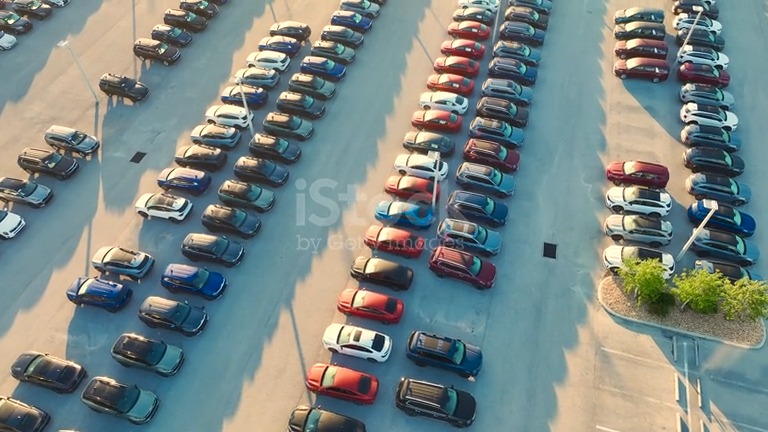car: (396, 378, 476, 427), (81, 376, 159, 424), (406, 331, 482, 377), (10, 351, 86, 392), (111, 334, 184, 376), (305, 363, 378, 404), (138, 296, 208, 336), (429, 246, 495, 288), (323, 323, 392, 362), (691, 228, 759, 265), (161, 263, 227, 299), (337, 288, 404, 323), (603, 245, 674, 278), (66, 277, 132, 311), (604, 214, 672, 247), (446, 190, 507, 226), (91, 246, 154, 280), (350, 256, 413, 290), (686, 172, 750, 205), (456, 162, 515, 197), (181, 233, 243, 266), (605, 186, 671, 217), (364, 225, 424, 257), (202, 204, 260, 237), (17, 148, 78, 179), (465, 138, 519, 172), (219, 180, 275, 212), (683, 147, 744, 176), (606, 160, 668, 188), (375, 200, 433, 229), (136, 192, 192, 222), (680, 124, 740, 152), (45, 125, 99, 156), (234, 156, 288, 186), (706, 204, 756, 236), (680, 102, 737, 130), (470, 117, 524, 146), (157, 167, 211, 195), (476, 97, 527, 126), (249, 134, 300, 163), (393, 153, 447, 180), (678, 83, 734, 109), (263, 111, 313, 140), (481, 78, 532, 106), (99, 73, 148, 102), (614, 57, 669, 82), (696, 260, 761, 281), (676, 45, 729, 70), (489, 58, 537, 85), (277, 91, 324, 118), (288, 73, 335, 100), (133, 38, 180, 65), (677, 63, 729, 87), (493, 40, 540, 66), (403, 131, 453, 155), (192, 124, 240, 149), (385, 175, 431, 201), (220, 84, 267, 109), (419, 91, 468, 114), (300, 56, 345, 81), (614, 38, 667, 59), (411, 110, 461, 132), (500, 21, 544, 46), (311, 40, 355, 65), (205, 105, 252, 128), (230, 67, 279, 89), (427, 73, 473, 95), (163, 9, 207, 32), (674, 13, 721, 34), (614, 21, 665, 40), (434, 56, 479, 77), (151, 24, 192, 47), (320, 25, 362, 47), (440, 39, 484, 59), (331, 10, 371, 32), (259, 36, 300, 57), (246, 51, 289, 71), (270, 21, 310, 41), (448, 21, 490, 40), (615, 7, 664, 23), (672, 0, 718, 17), (0, 10, 32, 34), (0, 210, 25, 239), (13, 0, 51, 19), (180, 0, 218, 19), (453, 7, 494, 24), (340, 0, 380, 17), (688, 200, 710, 224)
